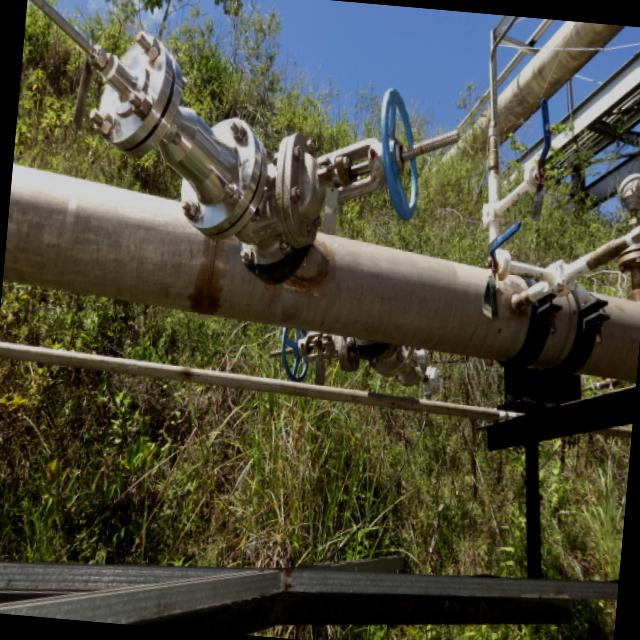gas: (3, 163, 640, 386), (0, 339, 632, 436), (455, 20, 628, 166)
